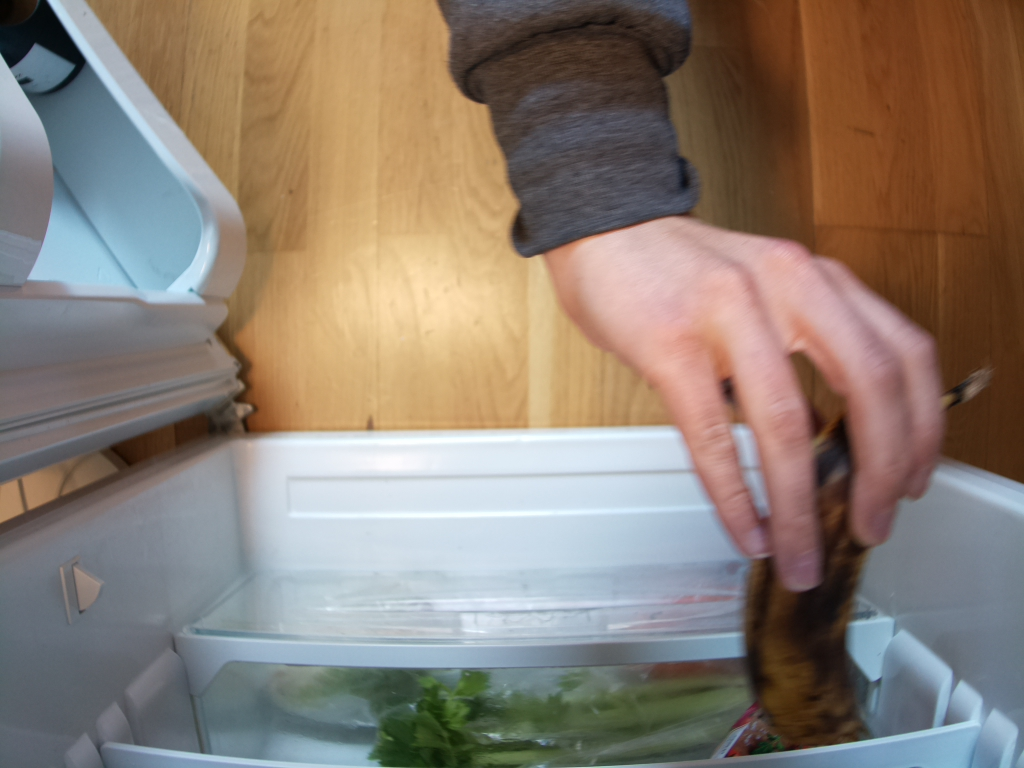banana-overripe: (747, 363, 1003, 749)
